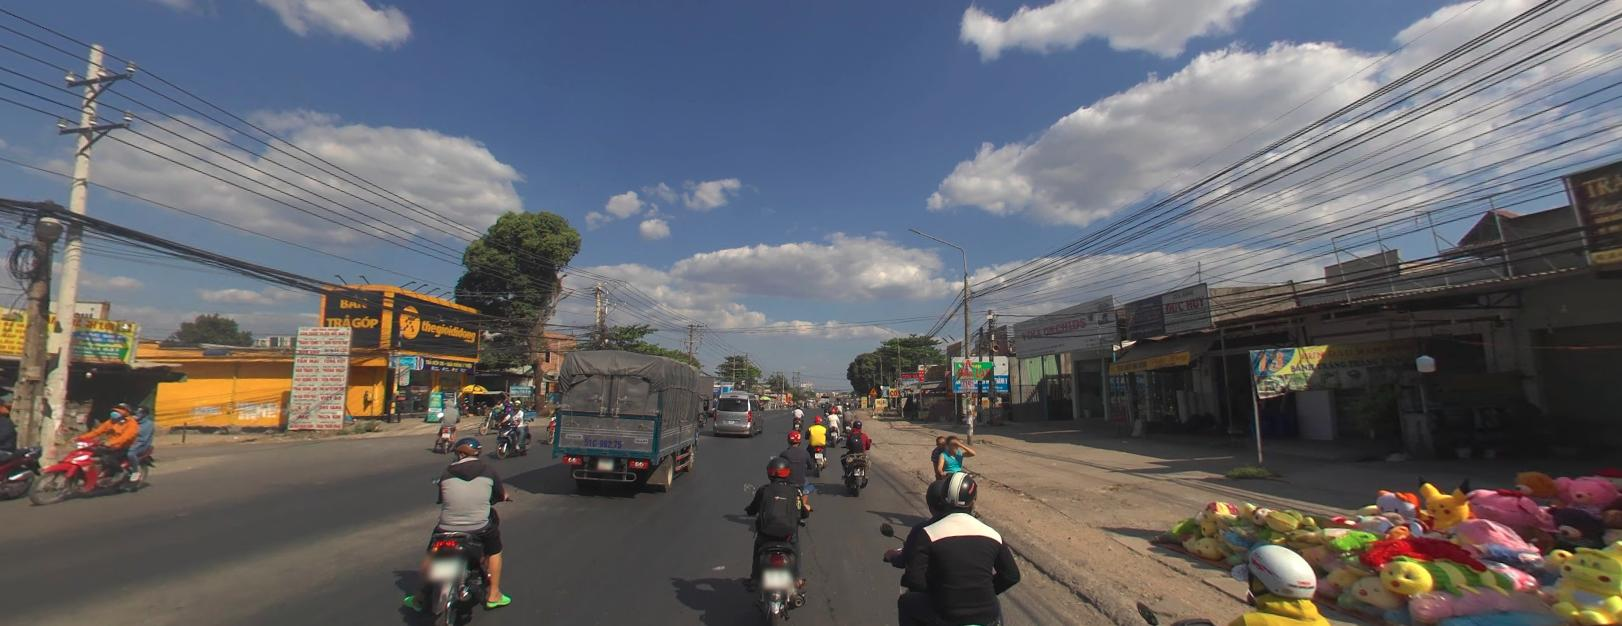Nguy hiem: (868, 385, 877, 393)
